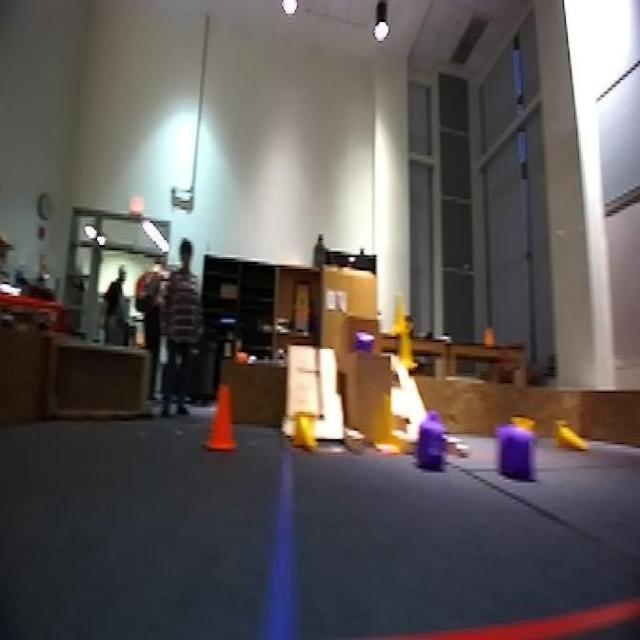frc_cone: (373, 392, 404, 454), (552, 420, 588, 454), (292, 412, 320, 453), (395, 325, 417, 373), (392, 301, 410, 334), (510, 412, 534, 429)
frc_cube: (498, 428, 536, 478), (410, 417, 444, 466), (350, 332, 372, 352)
